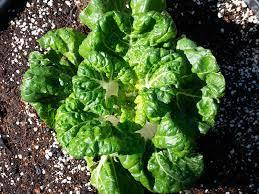Healthy-Pechay: (22, 1, 225, 192)
